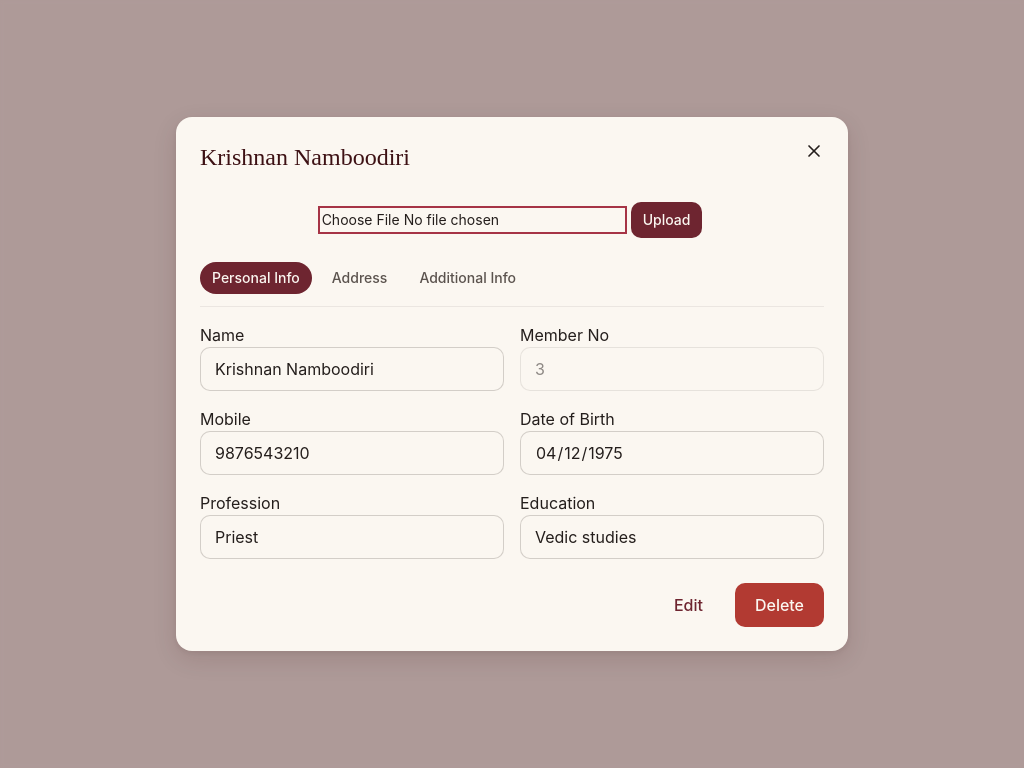
ProfileDetailModal › warns when submitting the photo form with no file selected
Click the button "Upload". click: (666, 220)
box: [631,202,702,238]
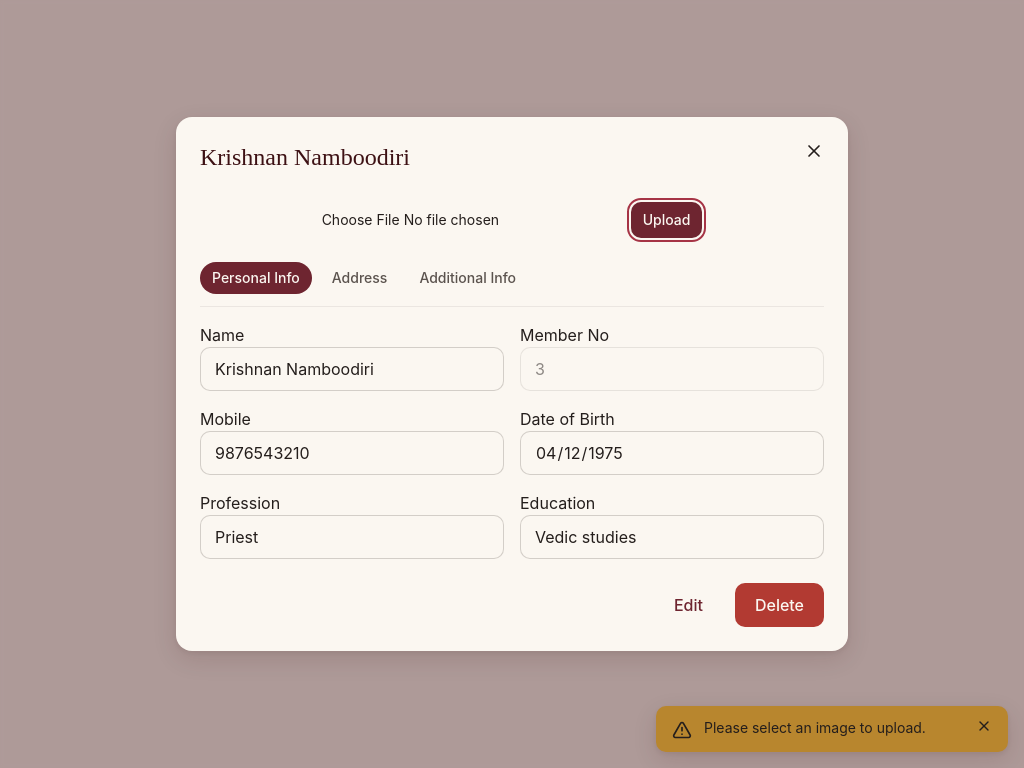
Now the text "Please select an image to upload." is shown, box [704,718,926,738]
